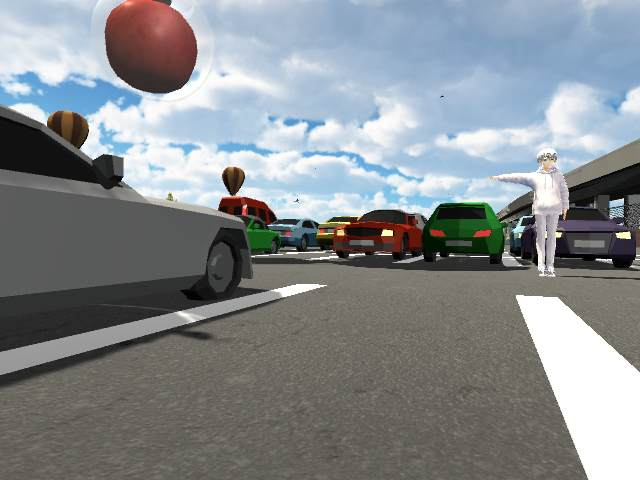singleP_left: (486, 144, 572, 280)
